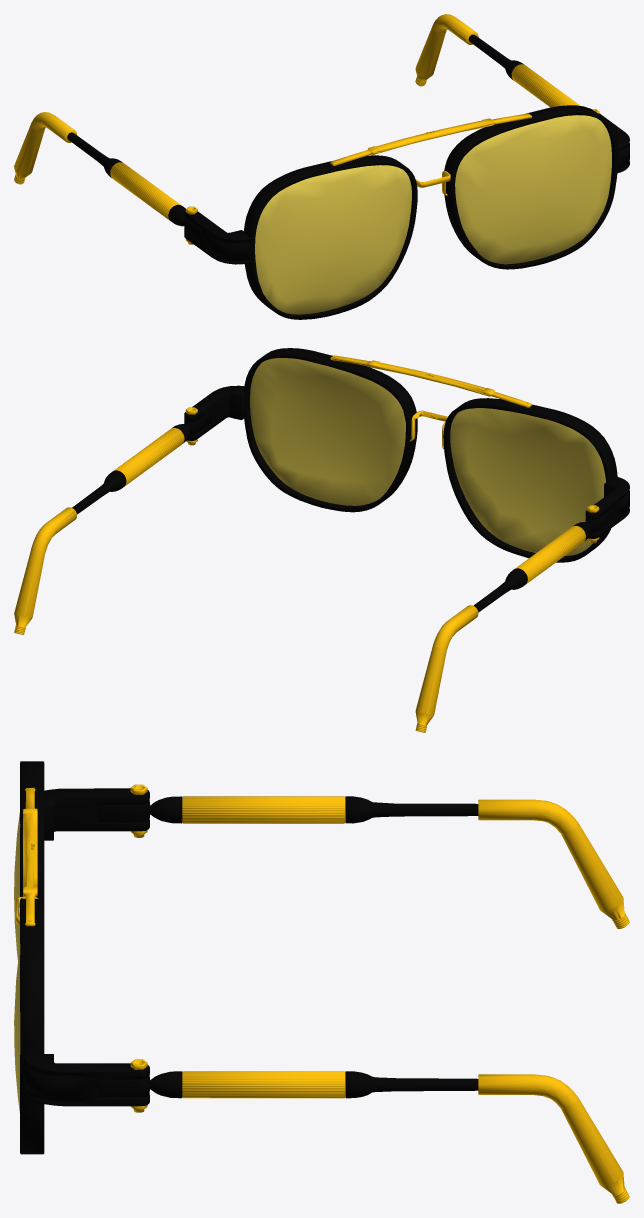
File: Lentes.fbx
3 views of the same model, one above another, from view 1: azimuth 30°, elevation 25°; view 2: azimuth 150°, elevation 25°; view 3: azimuth 270°, elevation 25° (orthographic). The views are drawn at different scales.
Visible parts, largest first — view 1: 眼镜片; view 2: 眼镜片; view 3: 眼镜片.
Boxes of the visible parts, <box> form: 眼镜片: <box>14,14,629,319</box>; 眼镜片: <box>14,348,629,732</box>; 眼镜片: <box>14,761,629,1203</box>.
Size of the model in its own units: 313 by 111 by 285.
